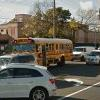Bus: (7, 30, 77, 65)
